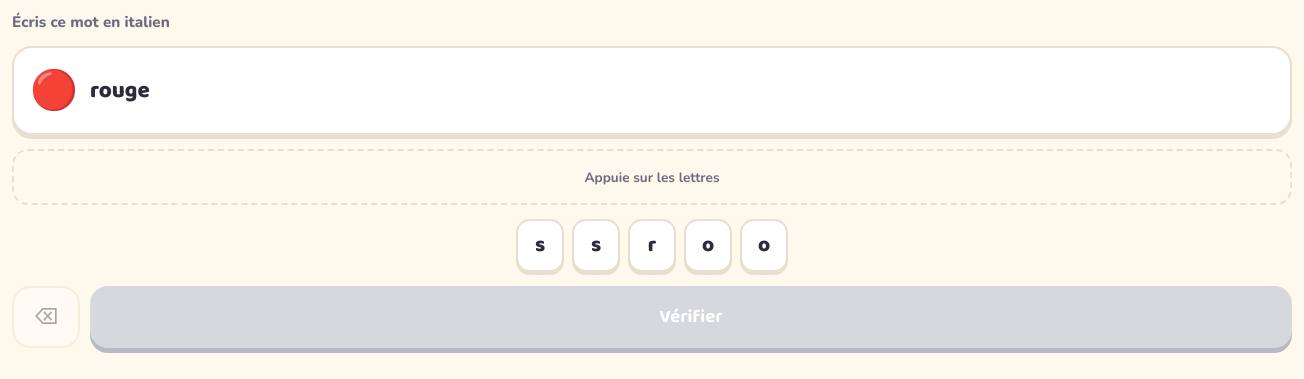
SpellCard › assemble le mot dans l’ordre des lettres touchées
The image size is (1304, 379).
Step 1. Click the button "r" → click(652, 246), box 628,219 -> 676,272
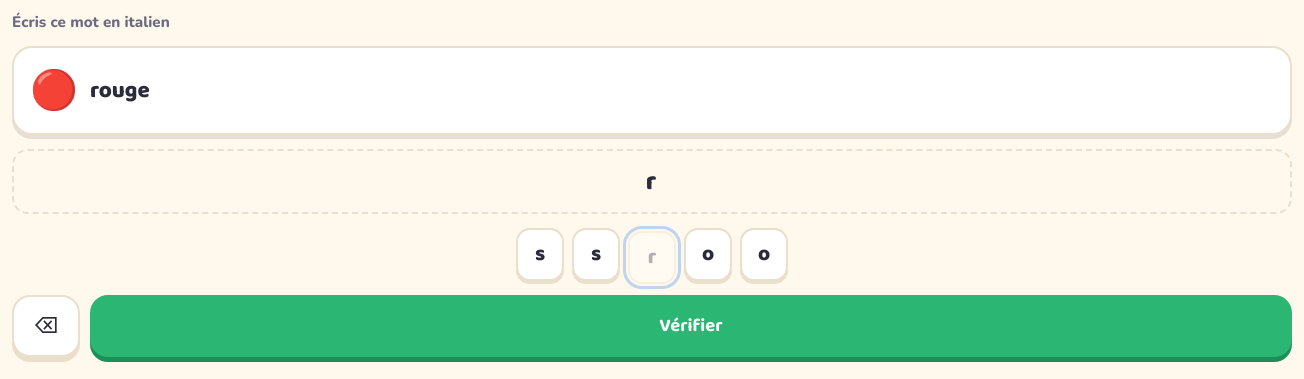
Step 2. Click the 1st button "o" → click(708, 254), box 684,228 -> 732,281
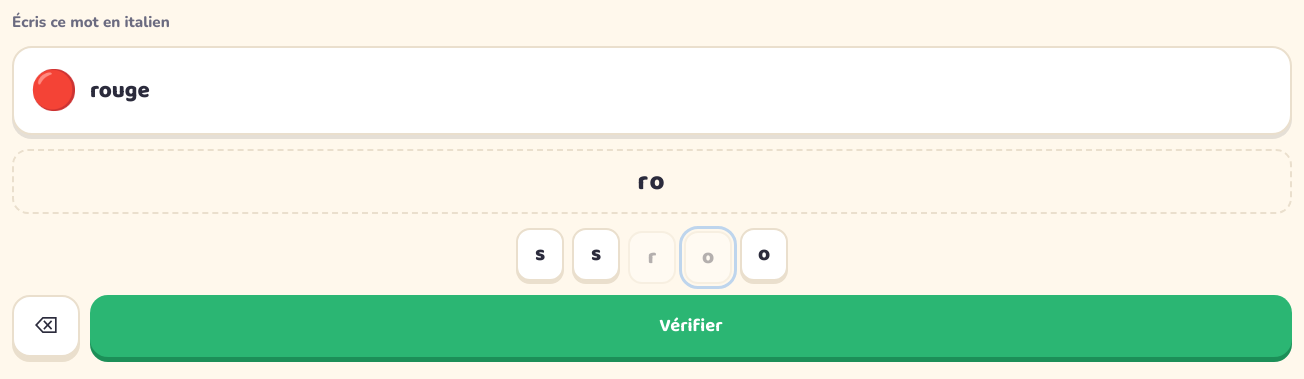
Step 3. Click the 1st button "s" → click(540, 254), box 516,228 -> 564,281
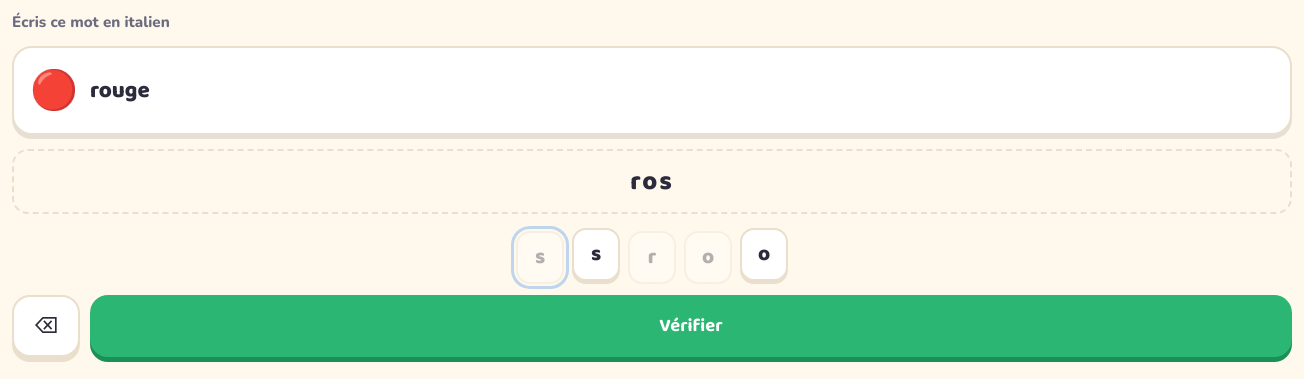
Result: the text "ros" is shown at 12,149 -> 1292,214
